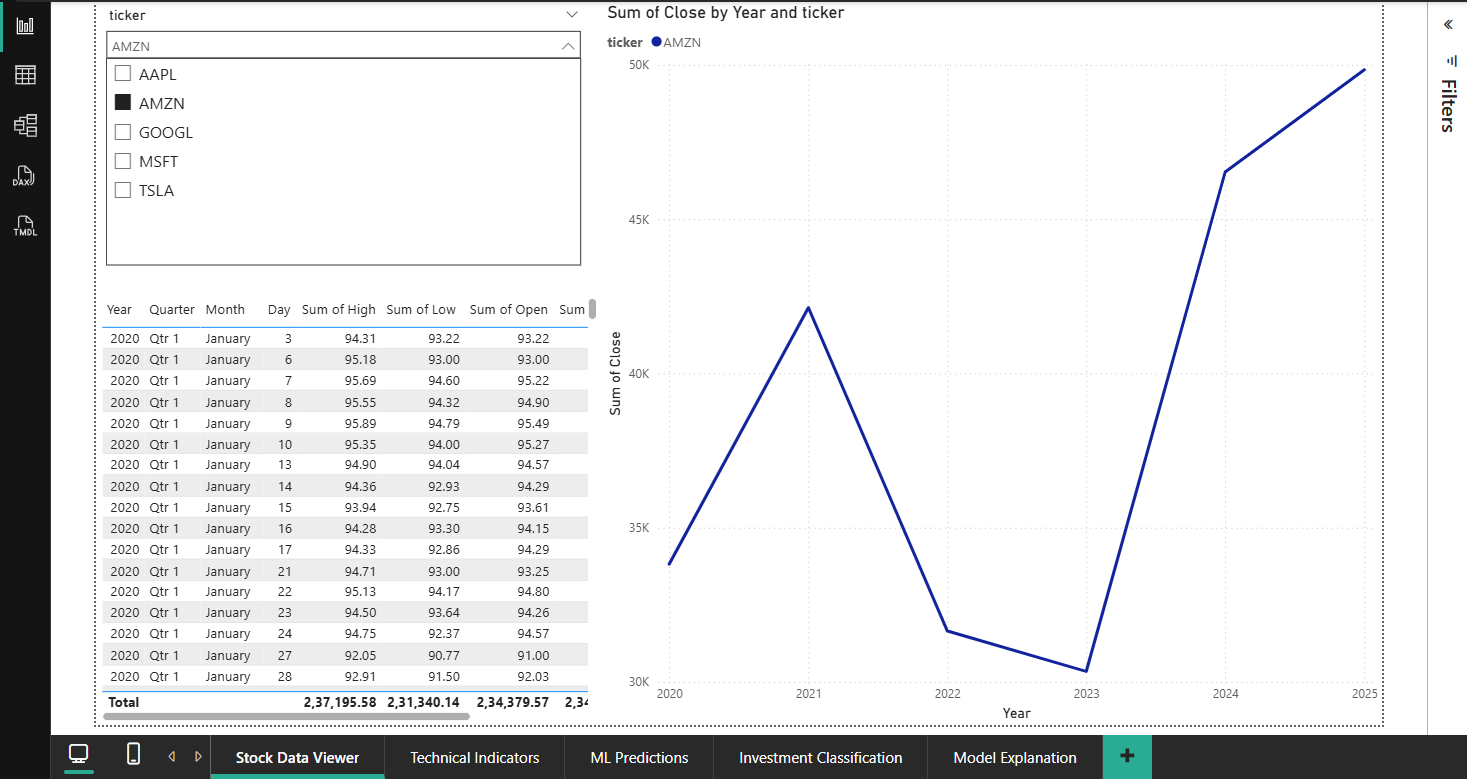

Layout of this report page (visuals, bound fields, positions):
{"tool":"powerbi","page":{"name":"Stock Data Viewer","canvas":[1280,720],"ordinal":0},"visuals":[{"type":"slicer","fields":{"Values":["technical_indicators.ticker"]},"box":[0,0,492.6,279.9],"z":0},{"type":"tableEx","fields":{"Values":["technical_indicators.date.Variation.Date Hierarchy.Year","technical_indicators.date.Variation.Date Hierarchy.Quarter","technical_indicators.date.Variation.Date Hierarchy.Month","technical_indicators.date.Variation.Date Hierarchy.Day","Sum(technical_indicators.High)","Sum(technical_indicators.Low)","Sum(technical_indicators.Open)","Sum(technical_indicators.Close)","Sum(technical_indicators.Volume)"]},"box":[0,289.5,503.6,430.9],"z":1000},{"type":"lineChart","fields":{"Category":["technical_indicators.date.Variation.Date Hierarchy.Year","technical_indicators.date.Variation.Date Hierarchy.Quarter","technical_indicators.date.Variation.Date Hierarchy.Month","technical_indicators.date.Variation.Date Hierarchy.Day"],"Y":["Sum(technical_indicators.Close)"],"Series":["technical_indicators.ticker"]},"box":[503.6,0,776.7,720.4],"z":2000}]}

Visuals, with their boxes on the page's 1280x720 design canvas (x1, y1, x2, y2). These are canvas units, not pixel positions in the 1467x779 screenshot, which may show the page scaled, cropped or inside an application window:
slicer - technical_indicators.ticker: 0, 0, 493, 280
tableEx - technical_indicators.date.Variation.Date Hierarchy.Year x technical_indicators.date.Variation.Date Hierarchy.Quarter: 0, 290, 504, 720
lineChart - technical_indicators.date.Variation.Date Hierarchy.Year x technical_indicators.date.Variation.Date Hierarchy.Quarter: 504, 0, 1280, 720
